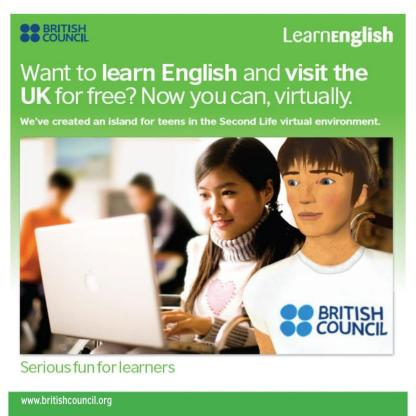board: (32, 208, 180, 360)
